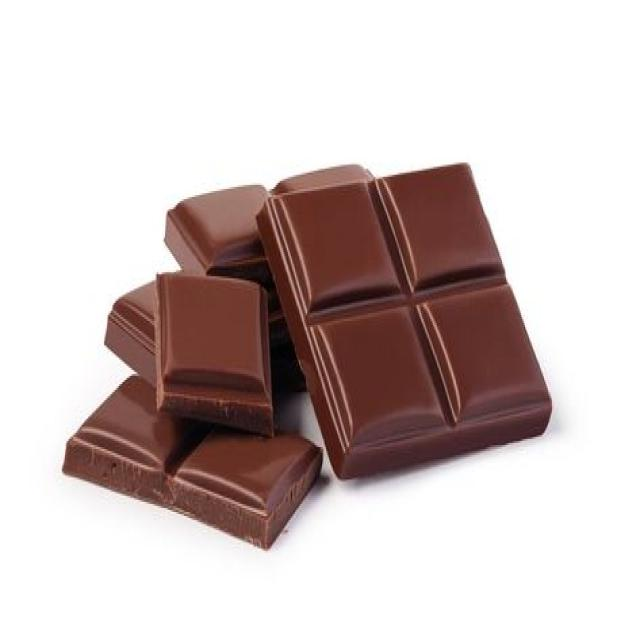Chocolate: (61, 156, 554, 544), (255, 159, 553, 480), (155, 270, 280, 436)
